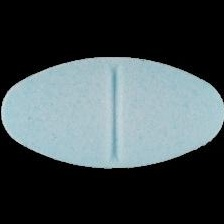21130-386: (0, 0, 224, 224)
